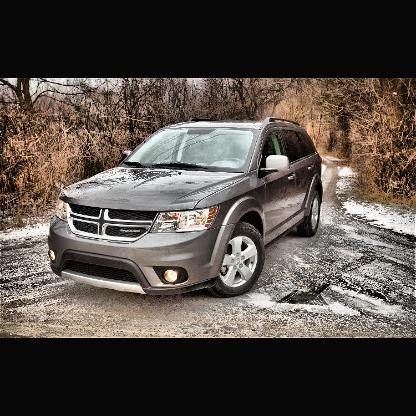Dodge Journey SUV 2012: (50, 120, 326, 296)
